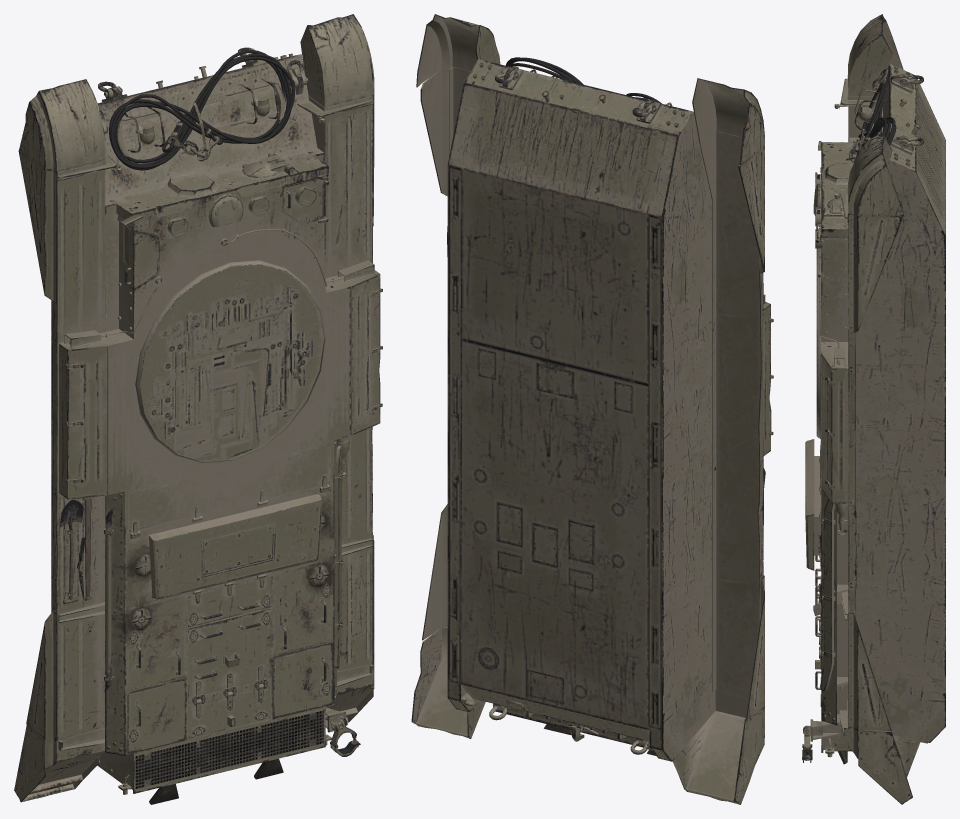
The model's file is Hull.glb.
3 renders of one model, left to right at view 1: azimuth 30°, elevation 25°; view 2: azimuth 150°, elevation 25°; view 3: azimuth 270°, elevation 25°, orthographic. The views are drawn at different scales.
Visible parts, largest first — view 1: set_0_group_0; view 2: set_0_group_0; view 3: set_0_group_0.
Boxes of the visible parts, x1,y1,x2,y2 form: set_0_group_0: [14, 14, 382, 804]; set_0_group_0: [411, 14, 773, 804]; set_0_group_0: [802, 14, 945, 804].
Size of the model in its own units: 3.07 by 6.38 by 1.27.
Materials: 1 (1 with a texture image).
